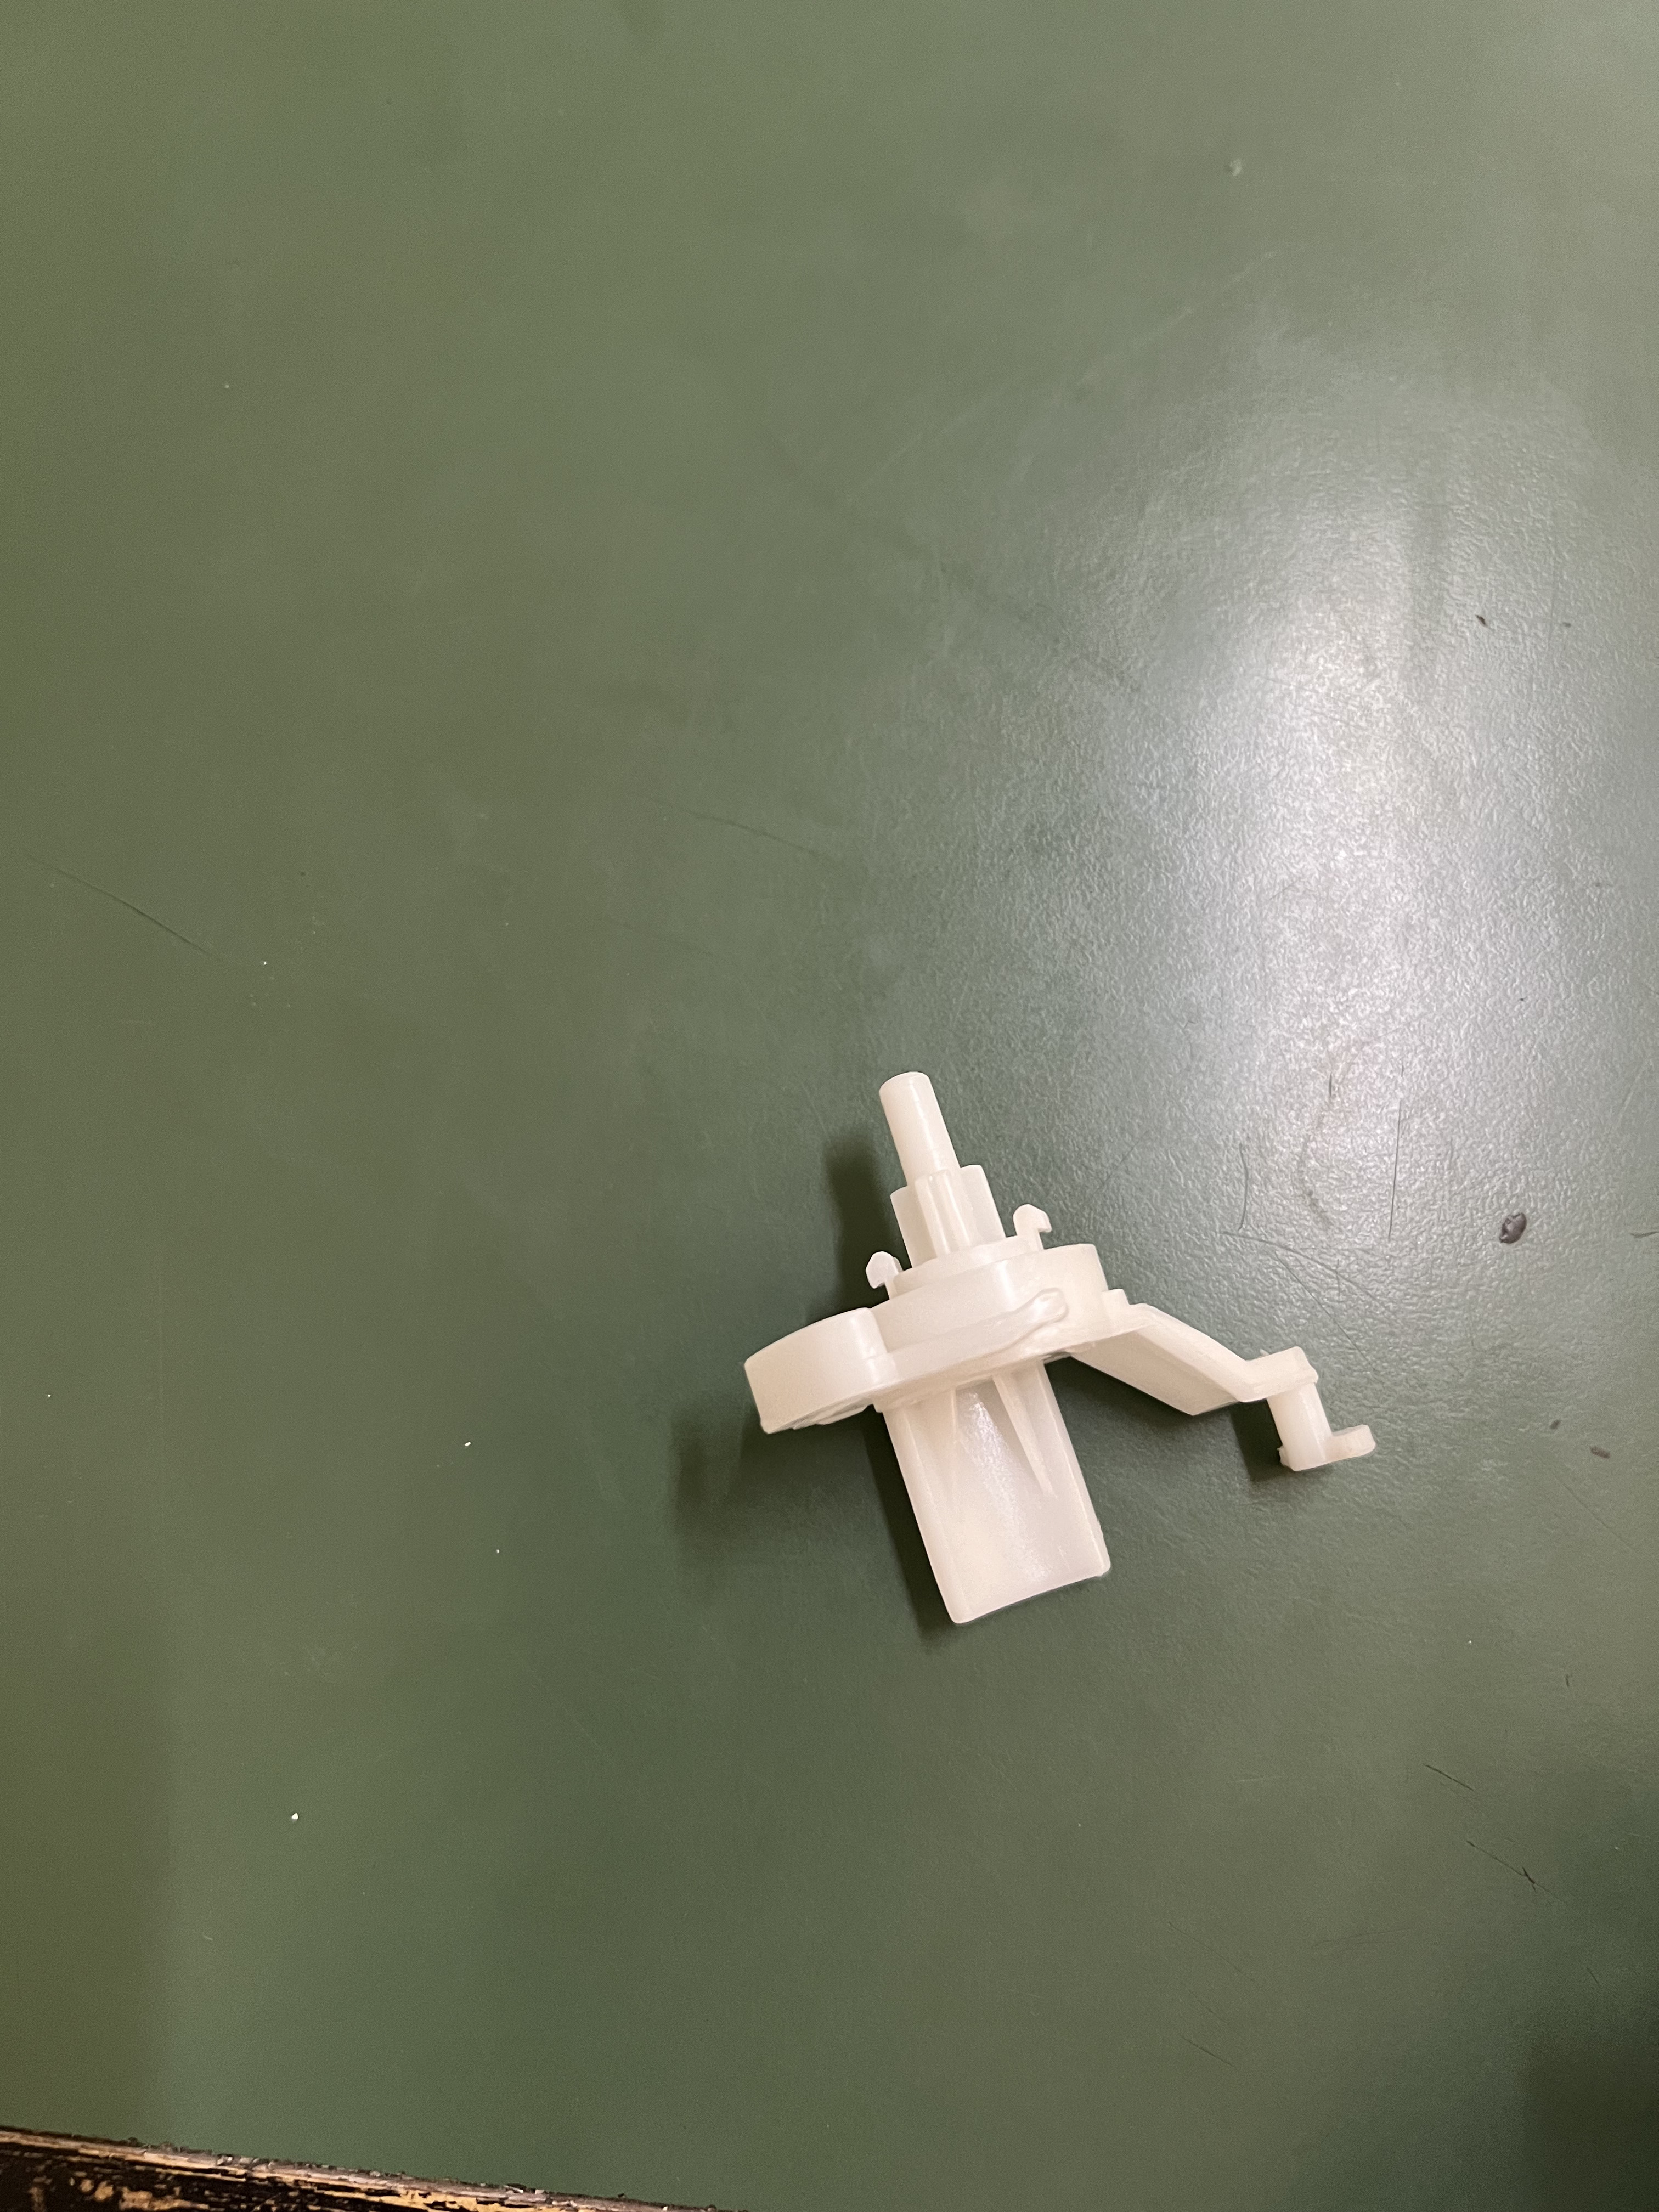drain_lever: (725, 1087, 1391, 1630)
